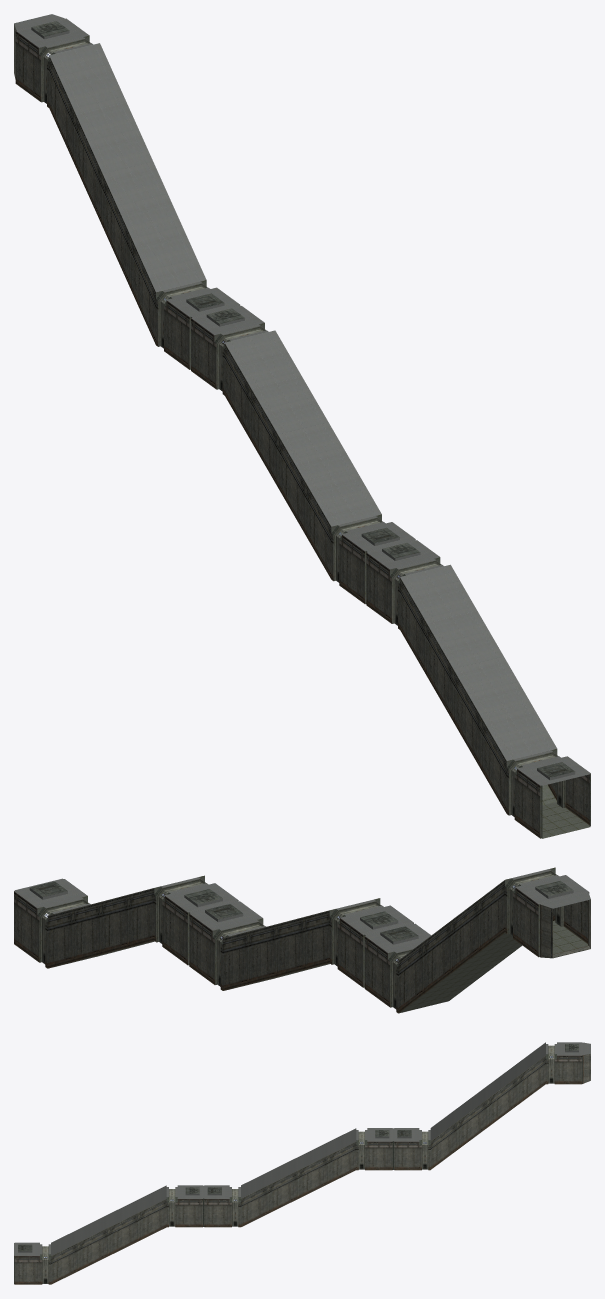
Rendered from poi_all_impl_bunker_crimelord_retreat_s01_r46_transitionhall_mesh_r46.fbx.
The picture shows the model from 3 angles, top to bottom: view 1: azimuth 30°, elevation 25°; view 2: azimuth 210°, elevation 25°; view 3: azimuth 270°, elevation 25°; orthographic projection. The views are drawn at different scales.
Parts seen in each view (by area): view 1: mesh_node; view 2: mesh_node; view 3: mesh_node.
Boxes of the visible parts, box(x1,y1,x2,y2) form: mesh_node: box(14, 14, 590, 838); mesh_node: box(14, 867, 590, 1013); mesh_node: box(14, 1042, 590, 1284).
Size of the model in its own units: 4 by 32.2 by 73.
